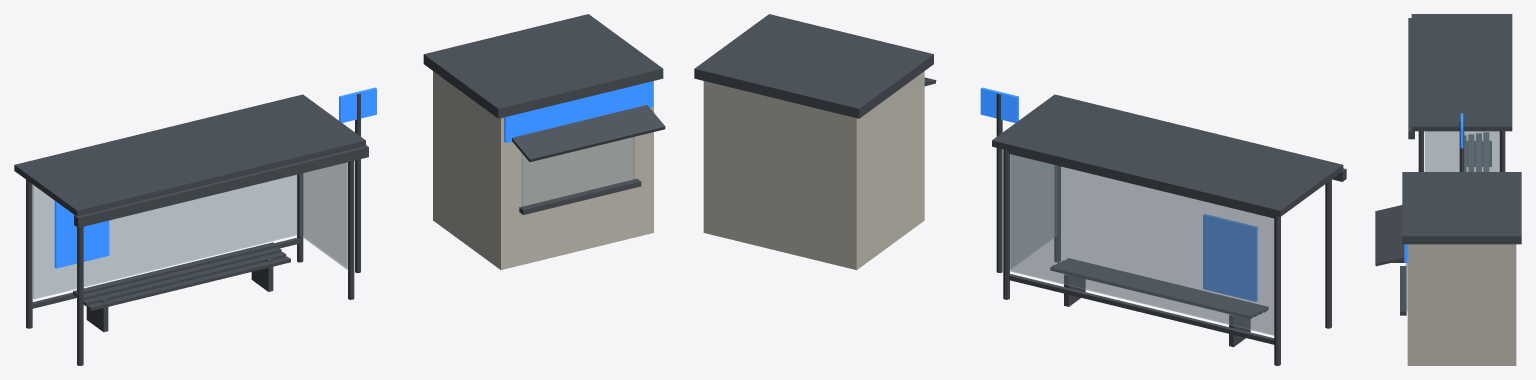
File: street-DmEASbfZ.glb
The picture shows the model from 3 angles, left to right: view 1: azimuth 30°, elevation 25°; view 2: azimuth 150°, elevation 25°; view 3: azimuth 270°, elevation 25°; orthographic projection. The views are drawn at different scales.
Parts seen in each view (by area): view 1: bus_stop_steel, kiosk_body, kiosk_steel, bus_stop_glass, kiosk_glass, kiosk_board, bus_stop_board; view 2: kiosk_body, bus_stop_steel, bus_stop_glass, kiosk_steel, bus_stop_board; view 3: bus_stop_steel, kiosk_body, kiosk_steel, bus_stop_glass, bus_stop_board.
Part boxes in pixels (bbox=[...]): bus_stop_steel: bbox=[14, 93, 368, 365]; kiosk_body: bbox=[433, 71, 653, 269]; kiosk_steel: bbox=[423, 14, 665, 214]; bus_stop_glass: bbox=[33, 162, 347, 299]; kiosk_glass: bbox=[522, 137, 634, 206]; kiosk_board: bbox=[504, 81, 653, 142]; bus_stop_board: bbox=[54, 87, 376, 268]; kiosk_body: bbox=[703, 71, 924, 269]; bus_stop_steel: bbox=[992, 93, 1346, 365]; bus_stop_glass: bbox=[1010, 154, 1274, 335]; kiosk_steel: bbox=[694, 14, 936, 118]; bus_stop_board: bbox=[980, 87, 1257, 301]; bus_stop_steel: bbox=[1408, 14, 1512, 171]; kiosk_body: bbox=[1407, 244, 1516, 365]; kiosk_steel: bbox=[1375, 172, 1521, 315]; bus_stop_glass: bbox=[1424, 131, 1499, 171]; bus_stop_board: bbox=[1460, 113, 1463, 148].
Bounding box in the file's own units: 9.87 × 2.91 × 2.7.
